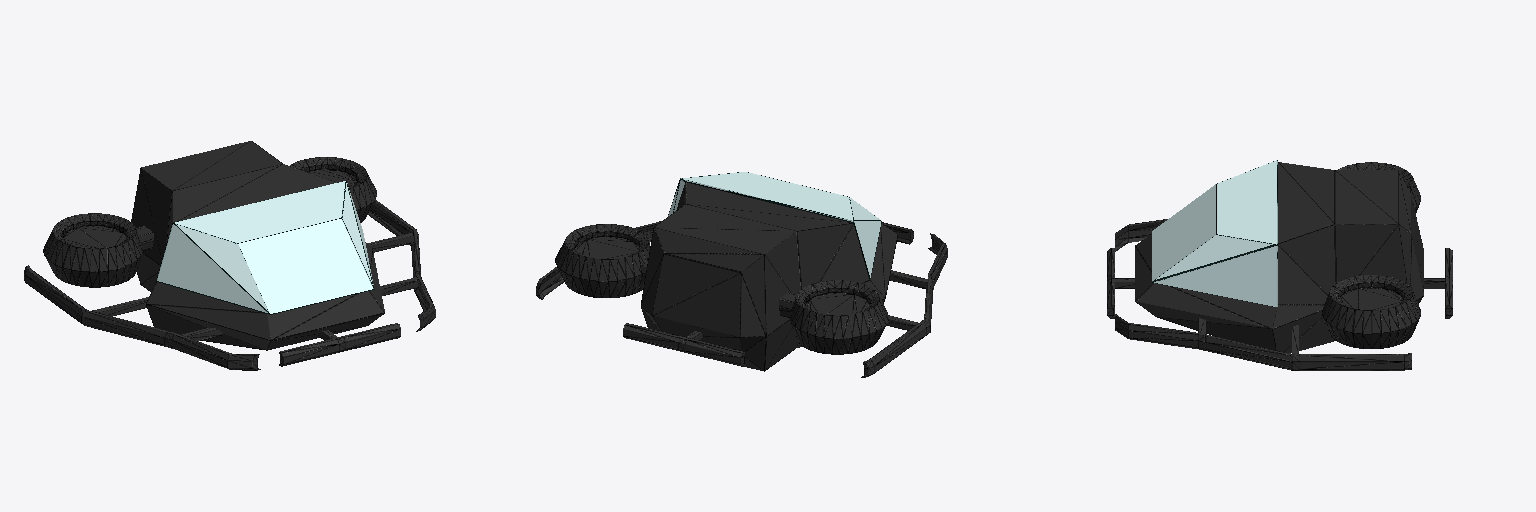
3 views of the same model, side by side, from view 1: azimuth 30°, elevation 25°; view 2: azimuth 150°, elevation 25°; view 3: azimuth 270°, elevation 25° (orthographic).
Visible parts, largest first — view 1: Cube.002_Cube.003; view 2: Cube.002_Cube.003; view 3: Cube.002_Cube.003.
Part boxes in pixels (bbox=[...]): Cube.002_Cube.003: bbox=[24, 141, 435, 370]; Cube.002_Cube.003: bbox=[536, 172, 947, 377]; Cube.002_Cube.003: bbox=[1107, 160, 1452, 370].
Size of the model in its own units: 2.53 by 0.8397 by 2.25.
3 materials, 1 textured.